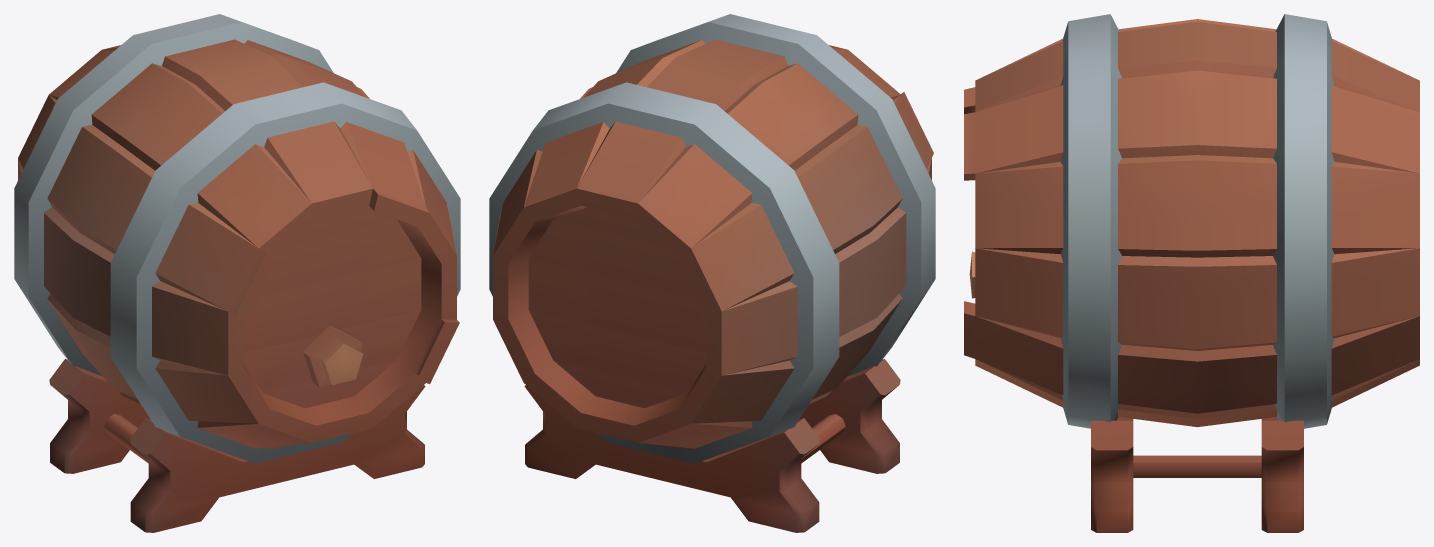
File: kay-barril-torneira.gltf
The picture shows the model from 3 angles, left to right: view 1: azimuth 30°, elevation 25°; view 2: azimuth 150°, elevation 25°; view 3: azimuth 270°, elevation 25°; orthographic projection. The views are drawn at different scales.
Visible parts, largest first — view 1: keg; view 2: keg; view 3: keg.
Boxes of the visible parts, x1=… form: keg: x1=14, y1=14, x2=460, y2=532; keg: x1=489, y1=14, x2=935, y2=532; keg: x1=964, y1=14, x2=1419, y2=532.
Size of the model in its own units: 1.17 by 1.33 by 1.3.
Materials: 1 (1 with a texture image).
